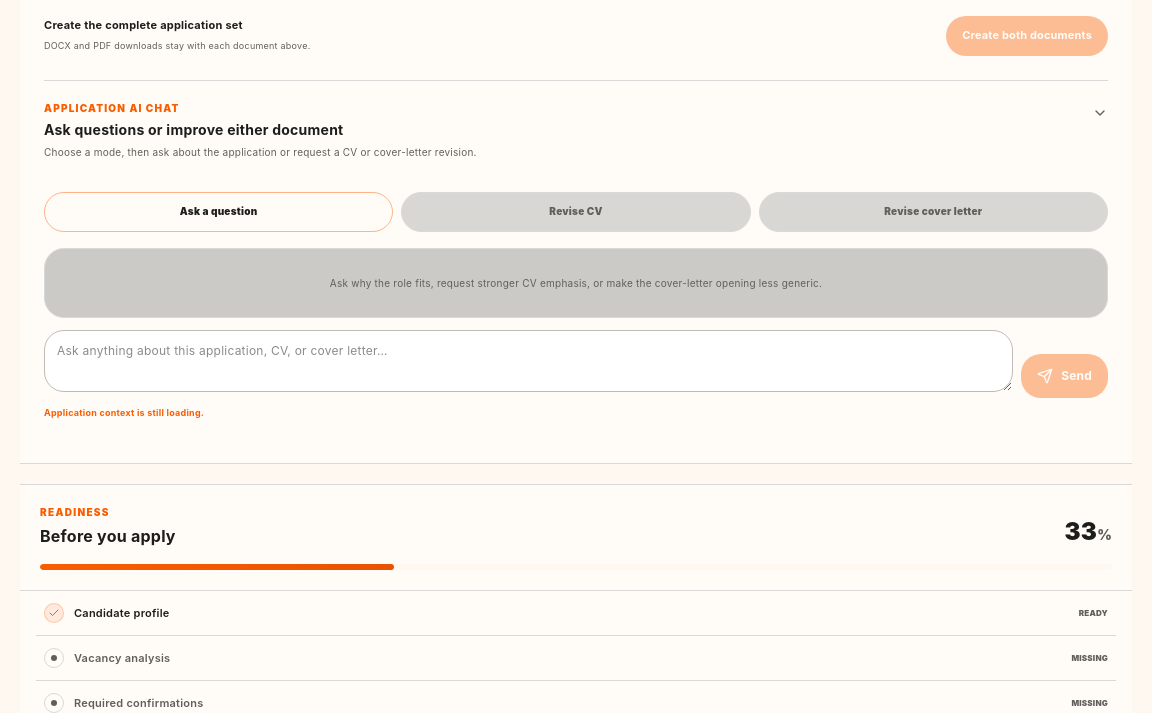
Test case: ApplicationWorkspace › answers application questions in the bottom AI chat
(page scrolled)
Step 1. Type "What should I emphasize?" into the text box named "AI chat message" → (529, 361), box 44,330 -> 1013,392
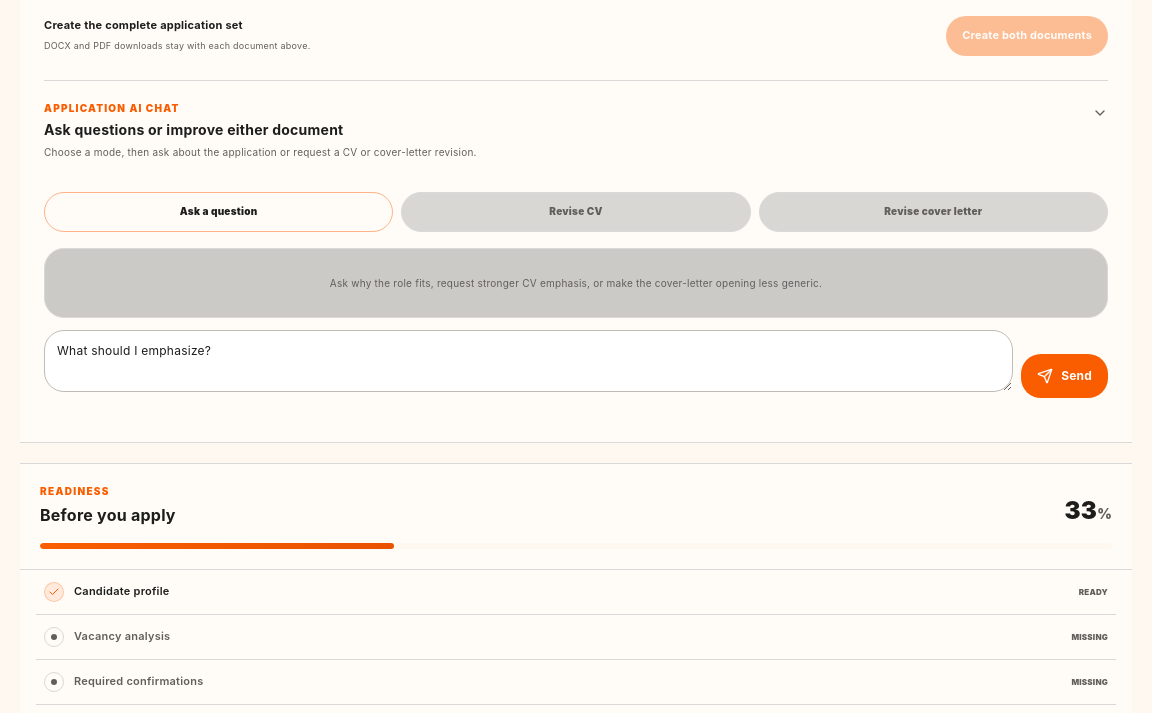
Expected: the button "Send" is enabled
Step 2. Click the button "Send" → (1065, 376), box 1021,354 -> 1108,398
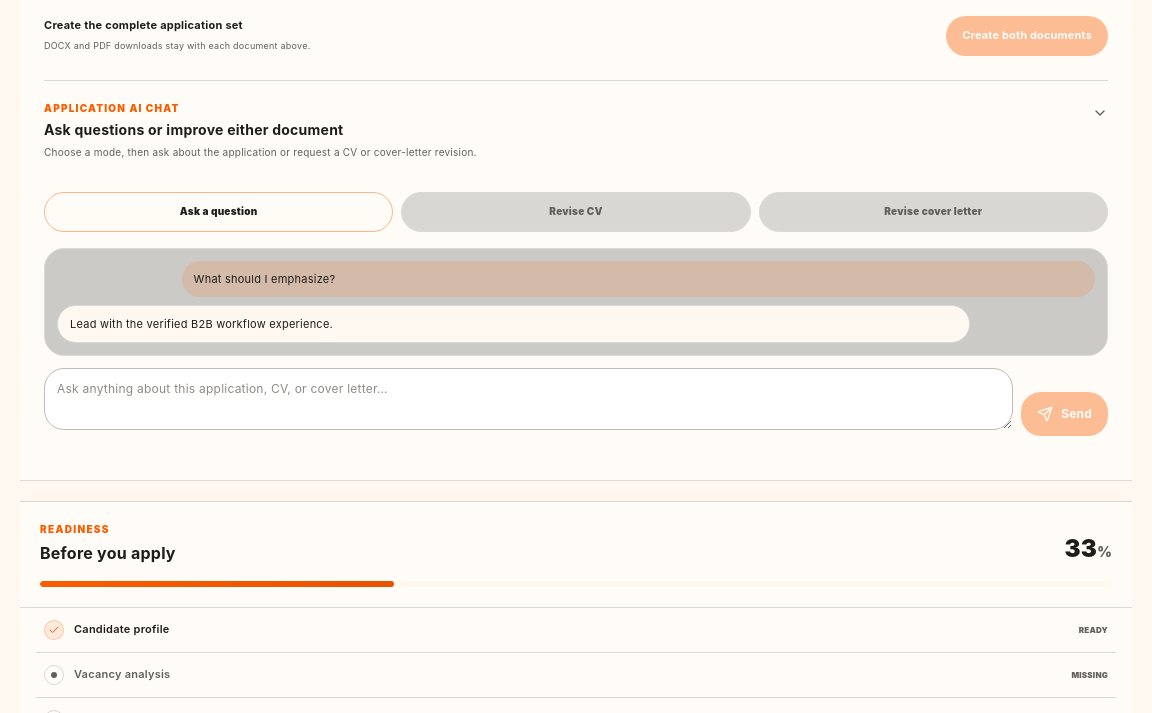
Expected: the text "Lead with the verified B2B workflow experience." is shown, 57,305 -> 970,343
